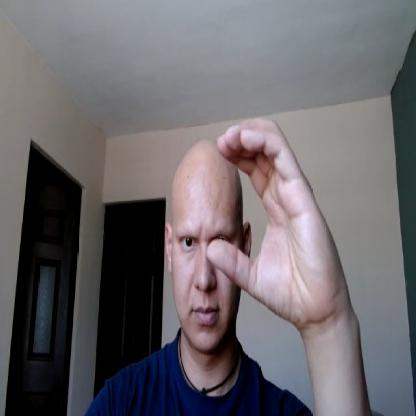C: (207, 116, 337, 326)
